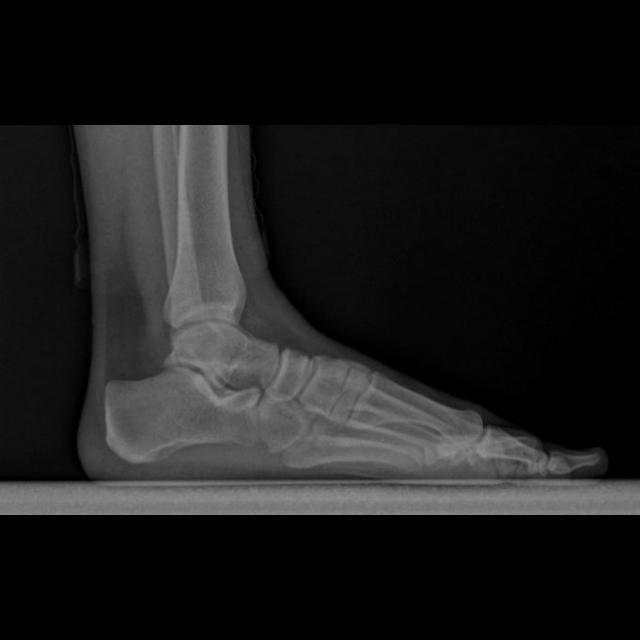a: (105, 364, 262, 462)
b: (267, 346, 315, 402)
c: (347, 373, 485, 449)
